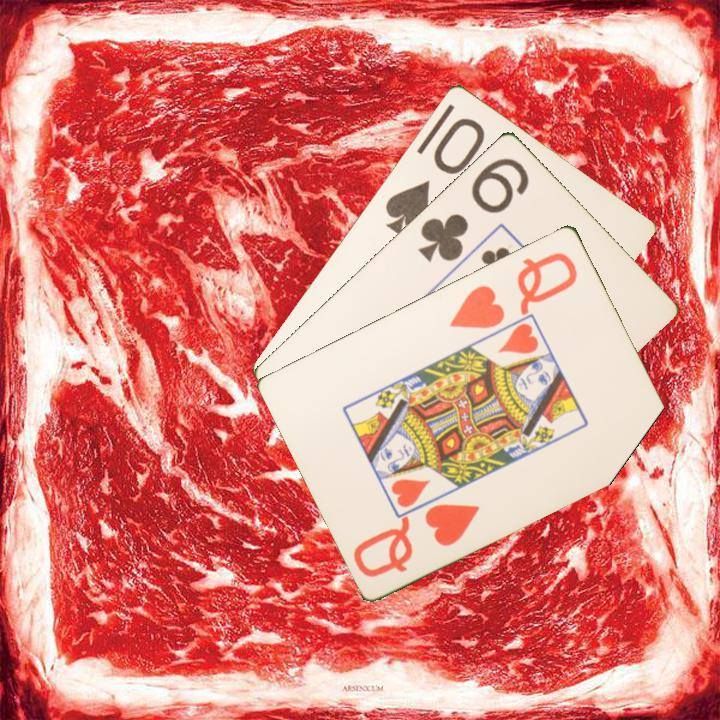10s: (381, 113, 488, 238)
6c: (414, 153, 532, 265)
Qh: (446, 248, 581, 331), (349, 499, 484, 580)
